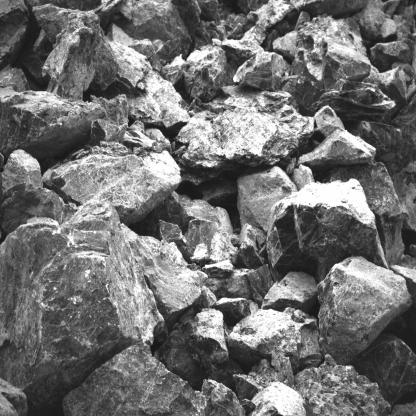stone: (0, 198, 165, 400), (266, 178, 389, 283), (173, 89, 316, 175), (42, 150, 182, 227), (63, 344, 209, 416), (317, 256, 413, 365), (121, 223, 208, 314), (0, 85, 101, 158), (228, 307, 323, 374), (41, 9, 102, 102), (310, 78, 400, 124), (239, 167, 293, 233), (297, 128, 377, 167), (184, 308, 229, 370), (320, 37, 371, 90), (183, 44, 228, 102), (233, 51, 287, 92), (1, 149, 43, 199), (209, 227, 238, 265), (237, 236, 264, 270), (316, 108, 344, 136)
